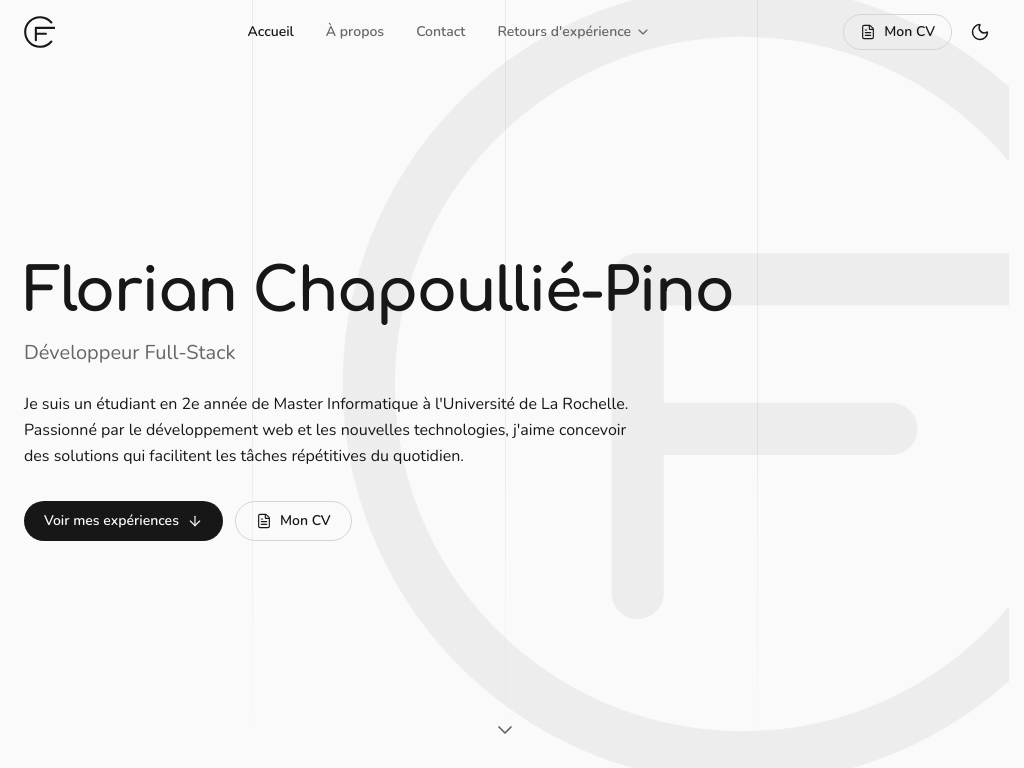
it: the theme toggle switches to dark and remembers it
Click the button named "Passer au thème sombre".
click(980, 32)  # box [960, 12, 1000, 52]
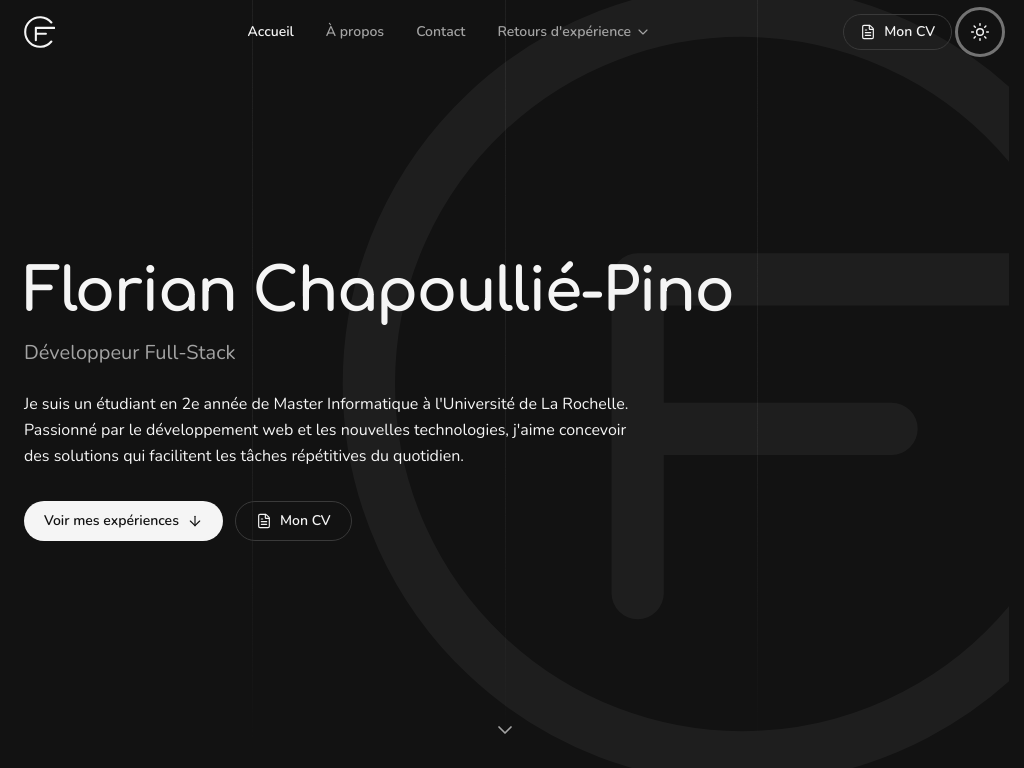
Expected: the button named "Passer au thème clair" is shown, [960, 12, 1000, 52]
